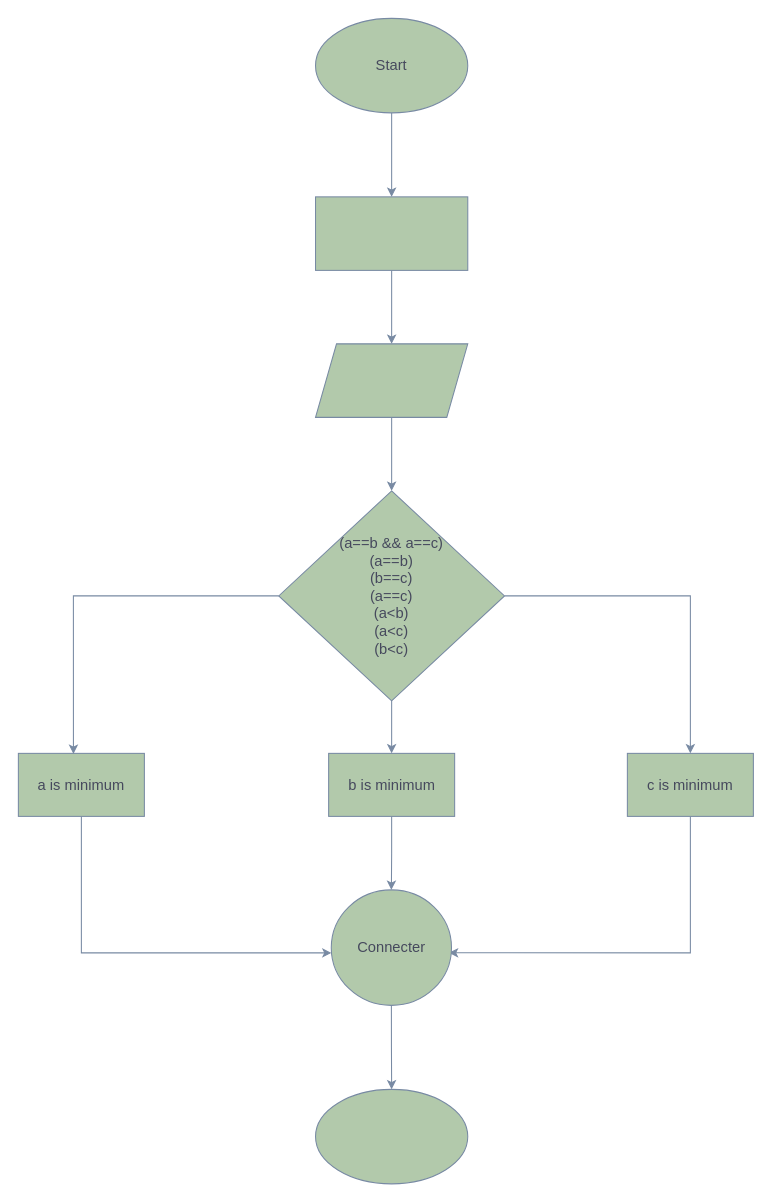
Image size: 772x1202. Some labels were removed from this diagram. The shapes that lost their labels are listed below. From the top down, each one's box as (x1, y1, x2, y2) in pixels, then its label:
(314, 196, 468, 270): int a,b,c;
(314, 343, 468, 417): Printf, Scanf
(314, 1088, 468, 1184): end
